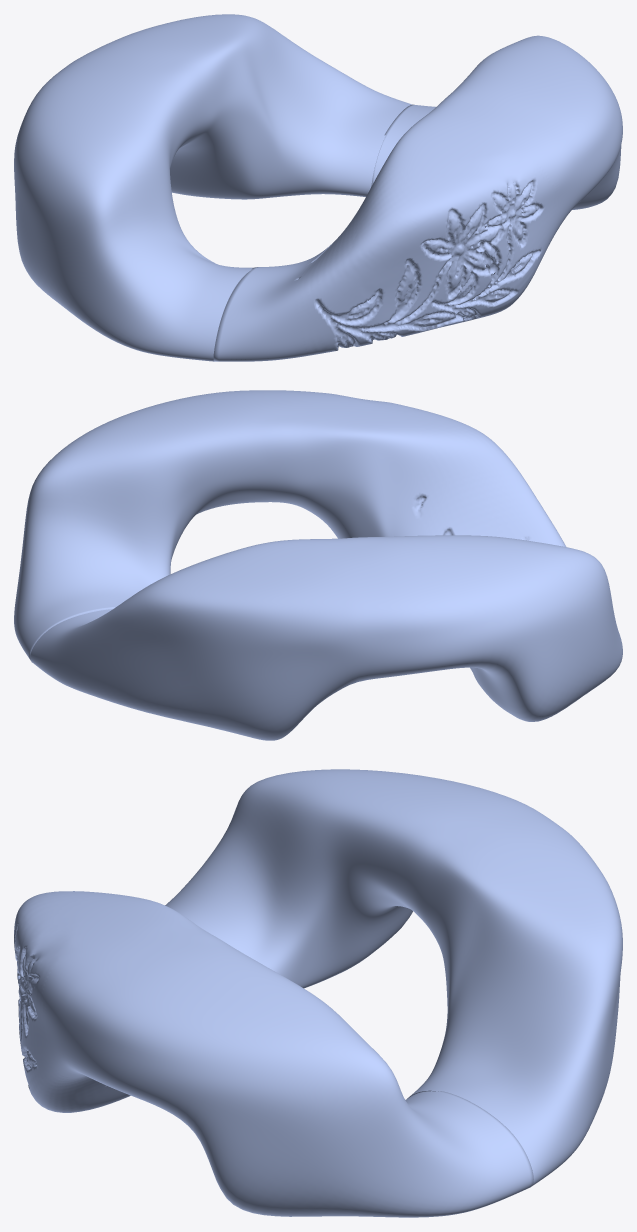
The picture shows the model from 3 angles, top to bottom: view 1: azimuth 30°, elevation 25°; view 2: azimuth 150°, elevation 25°; view 3: azimuth 270°, elevation 25°; orthographic projection. The views are drawn at different scales.
Parts seen in each view (by area): view 1: B5-24-古巴链-OK-版-倒铜 1.016, B5-24-古巴链-OK-版-倒铜 1.015; view 2: B5-24-古巴链-OK-版-倒铜 1.016, B5-24-古巴链-OK-版-倒铜 1.015; view 3: B5-24-古巴链-OK-版-倒铜 1.016, B5-24-古巴链-OK-版-倒铜 1.015.
Boxes of the visible parts, x1,y1,x2,y2 form: B5-24-古巴链-OK-版-倒铜 1.016: (14,14,411,361); B5-24-古巴链-OK-版-倒铜 1.015: (213,35,622,361); B5-24-古巴链-OK-版-倒铜 1.016: (30,535,622,740); B5-24-古巴链-OK-版-倒铜 1.015: (14,390,566,660); B5-24-古巴链-OK-版-倒铜 1.016: (165,769,622,1185); B5-24-古巴链-OK-版-倒铜 1.015: (14,891,533,1217).
Size of the model in its own units: 0.1927 by 0.0568 by 0.159.
